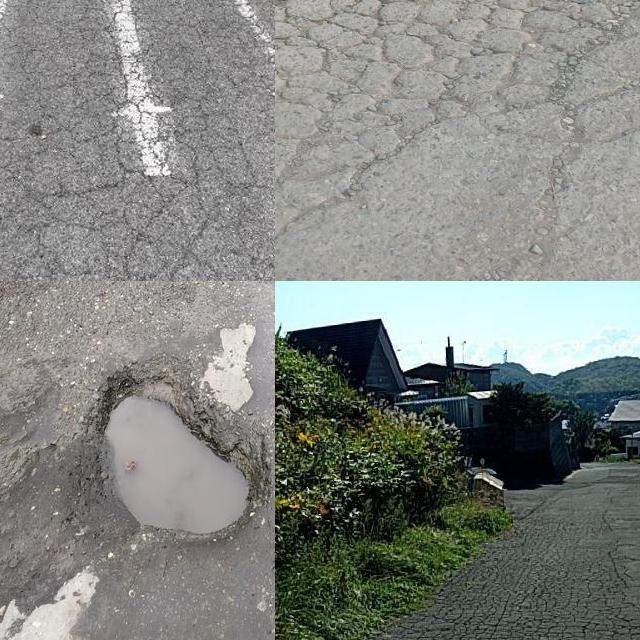Lubang: (88, 362, 275, 538)
Retak Buaya: (275, 0, 640, 224), (0, 0, 275, 281), (362, 514, 640, 640)
